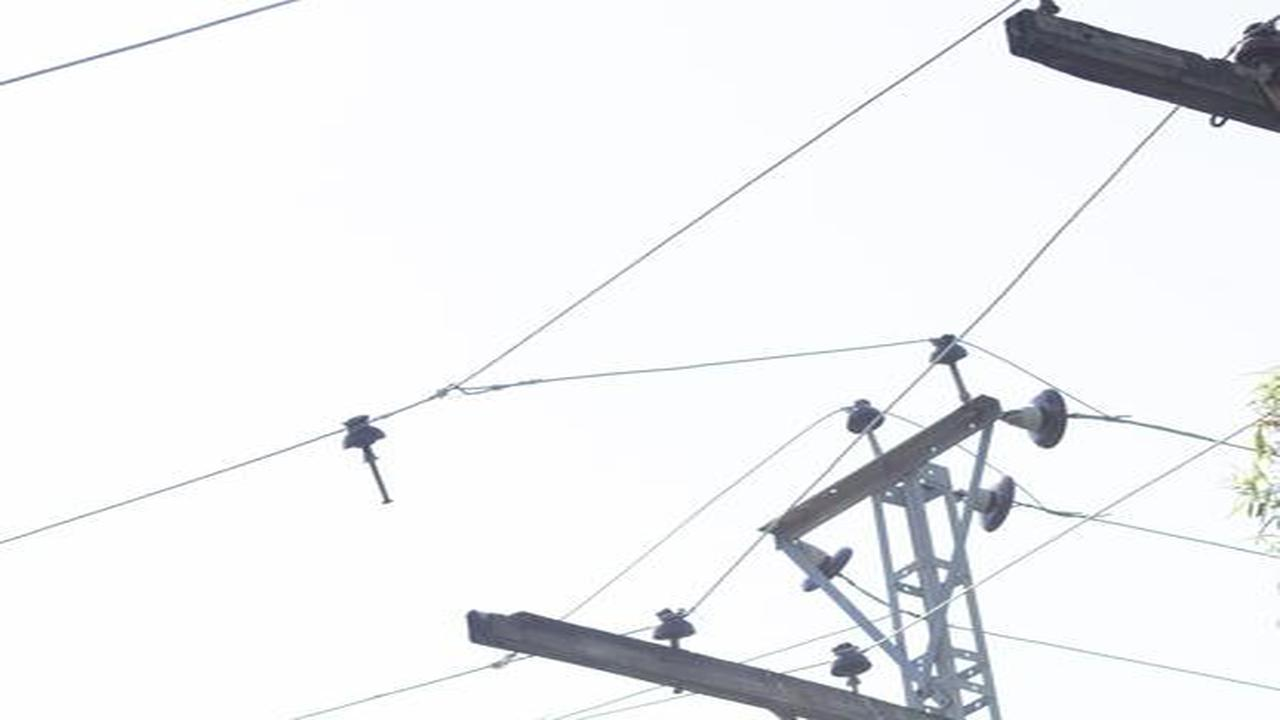insulator_disc: (1000, 378, 1072, 453), (792, 548, 863, 597), (967, 475, 1023, 537)
insulator_pin: (648, 598, 712, 652), (335, 406, 401, 456), (922, 326, 977, 381), (836, 394, 895, 442), (826, 641, 879, 688)
